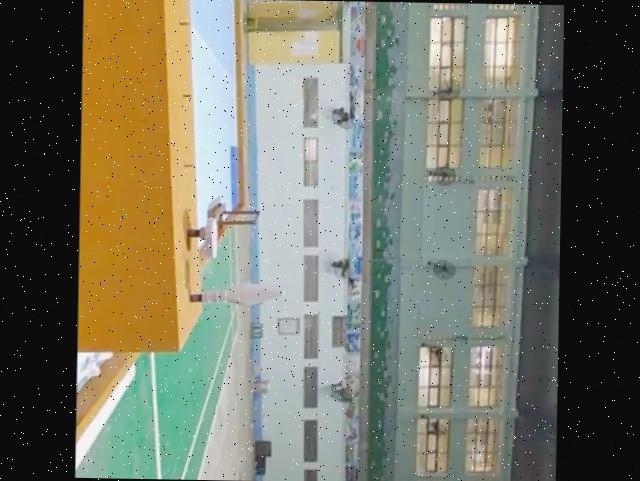Hand: (187, 215, 222, 257)
Sph: (190, 276, 288, 308)
